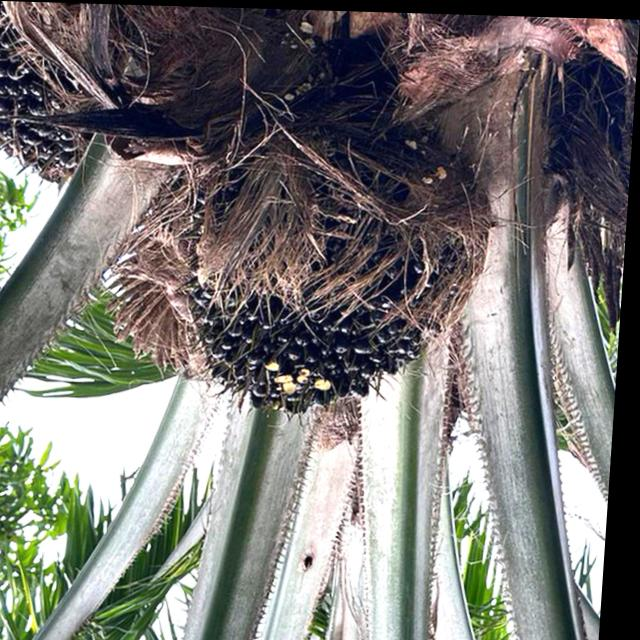unripe: (170, 138, 491, 425), (0, 0, 127, 194)
